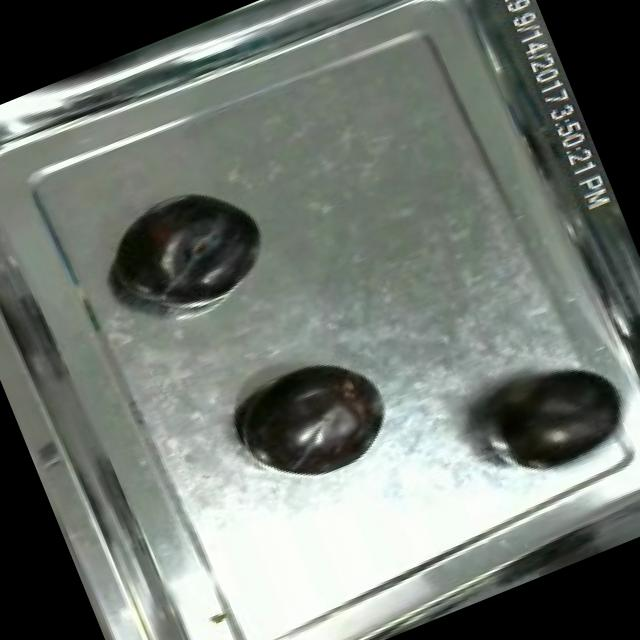Fruit: (96, 166, 282, 330), (220, 338, 406, 502), (471, 336, 640, 490)
